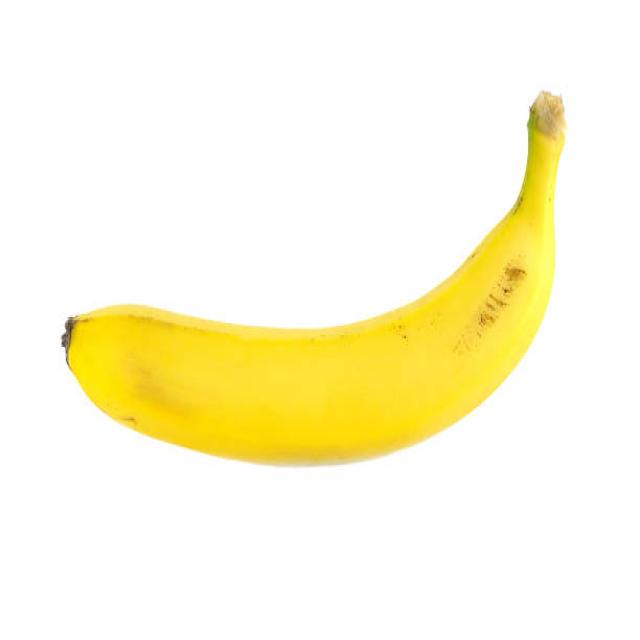banana: (62, 120, 560, 467), (64, 131, 560, 467)
